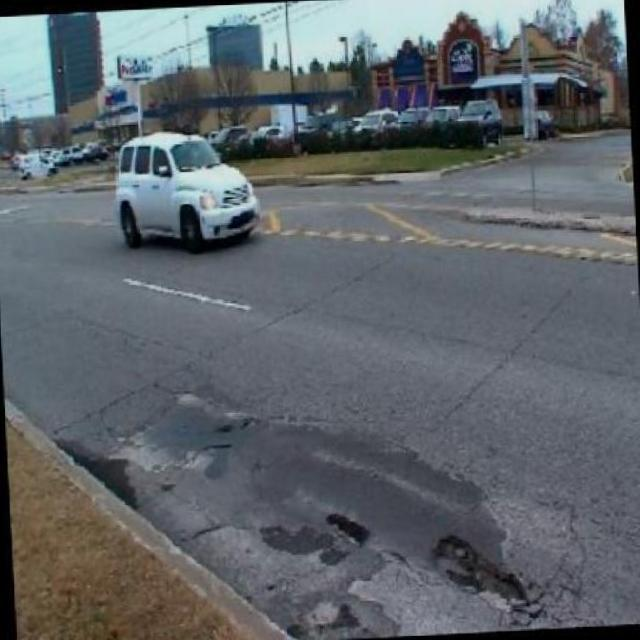Pothole: (435, 535, 530, 606), (325, 514, 370, 547)
